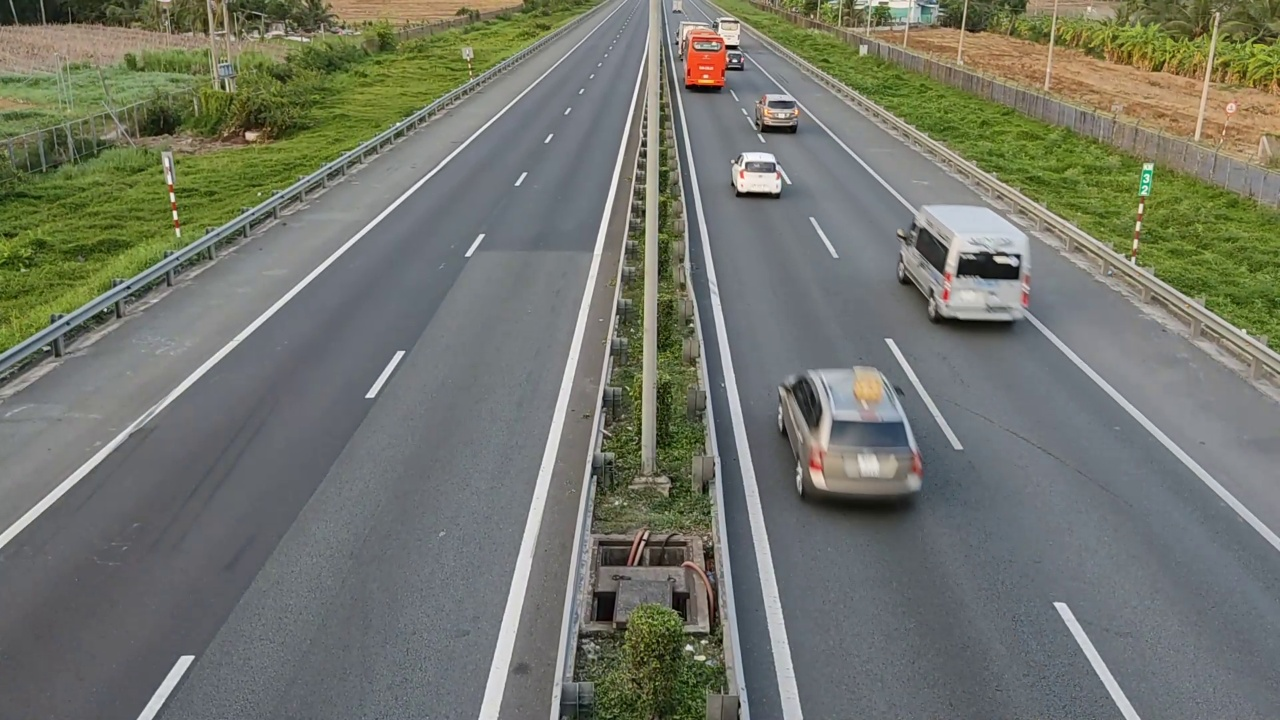bus: (684, 26, 727, 90)
car: (775, 364, 925, 505), (895, 202, 1032, 324), (729, 151, 787, 197), (754, 93, 800, 133)
